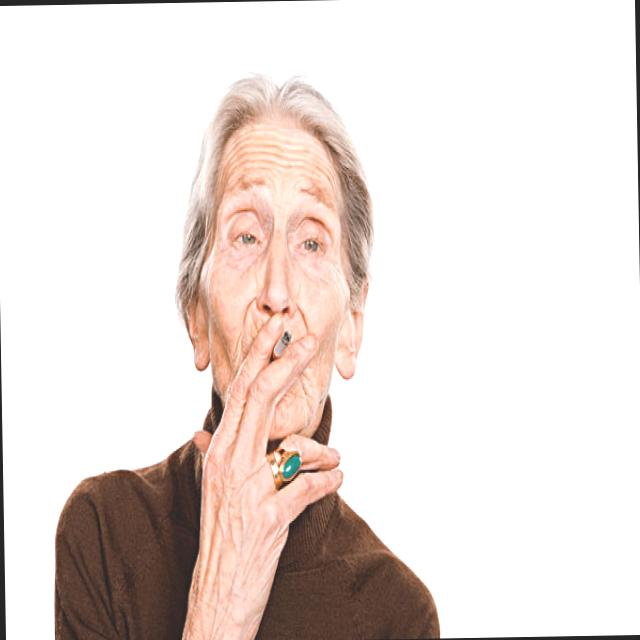cigarette: (271, 328, 293, 362)
